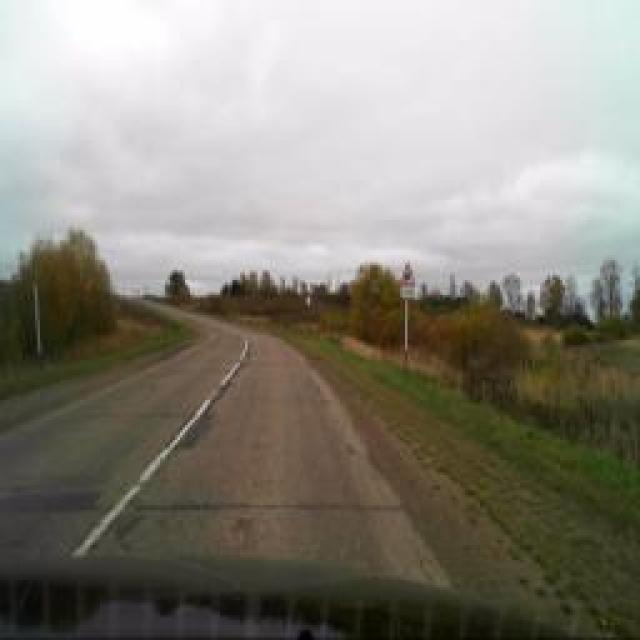sign: (399, 262, 416, 286)
